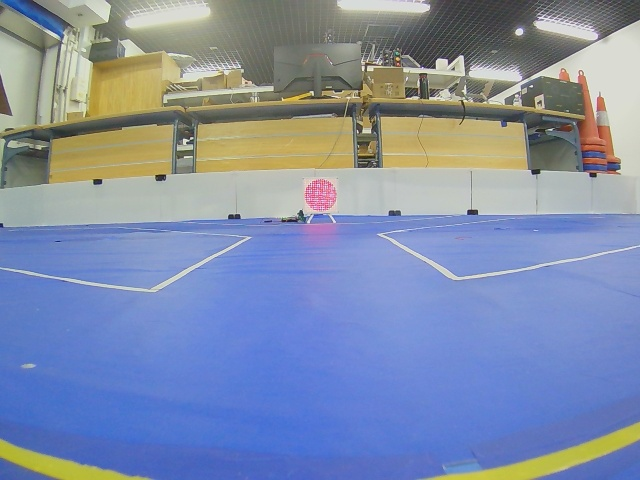red: (304, 178, 337, 213)
